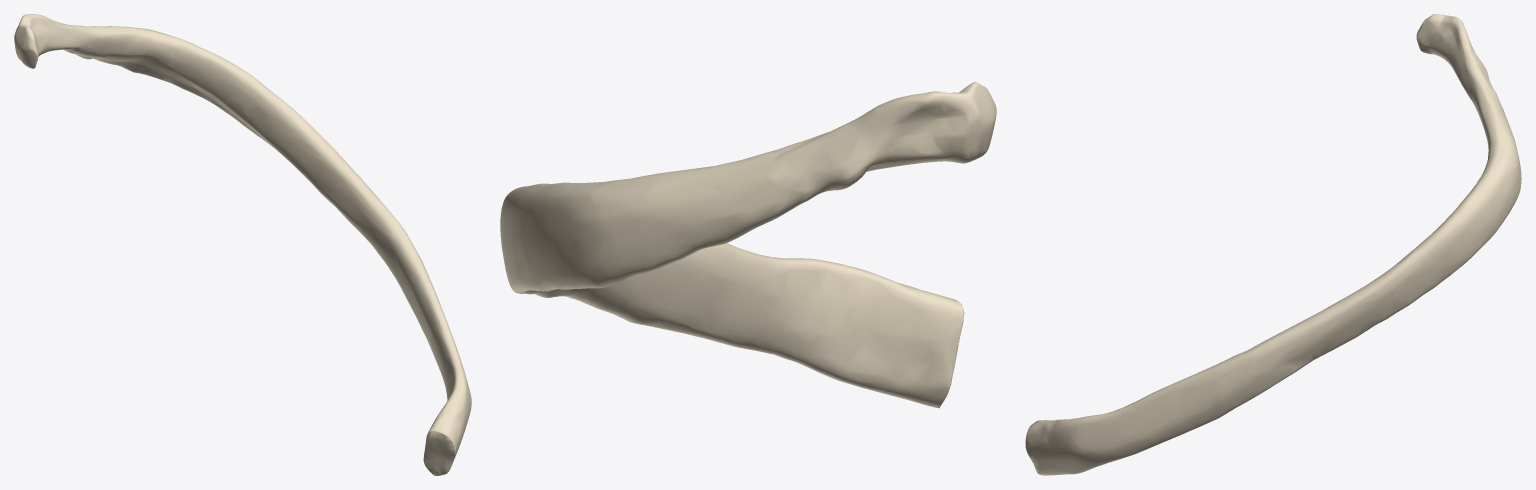
Rendered from seventh-rib-l.glb.
3 renders of one model, left to right at view 1: azimuth 30°, elevation 25°; view 2: azimuth 150°, elevation 25°; view 3: azimuth 270°, elevation 25°, orthographic. The views are drawn at different scales.
Parts seen in each view (by area): view 1: Seventh rib.l; view 2: Seventh rib.l; view 3: Seventh rib.l.
Part boxes in pixels (<box>): Seventh rib.l: <box>14,14,471,475</box>; Seventh rib.l: <box>500,81,996,408</box>; Seventh rib.l: <box>1025,14,1521,475</box>.
Bounding box in the file's own units: 0.1252 × 0.1444 × 0.1816.
